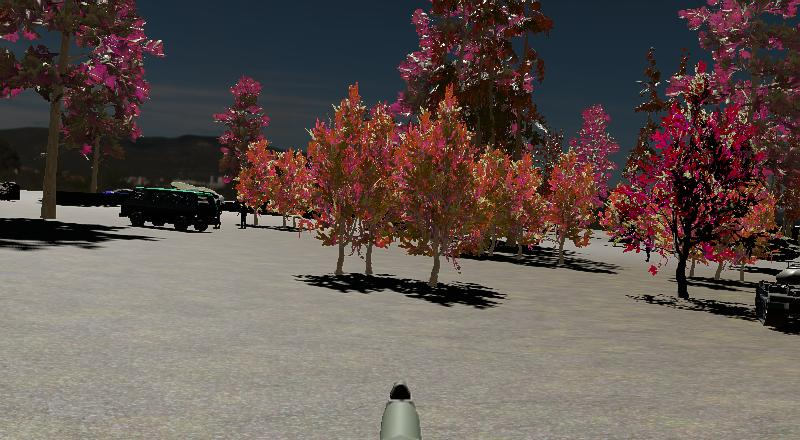Tank: (754, 259, 800, 331)
car: (119, 187, 220, 232)
